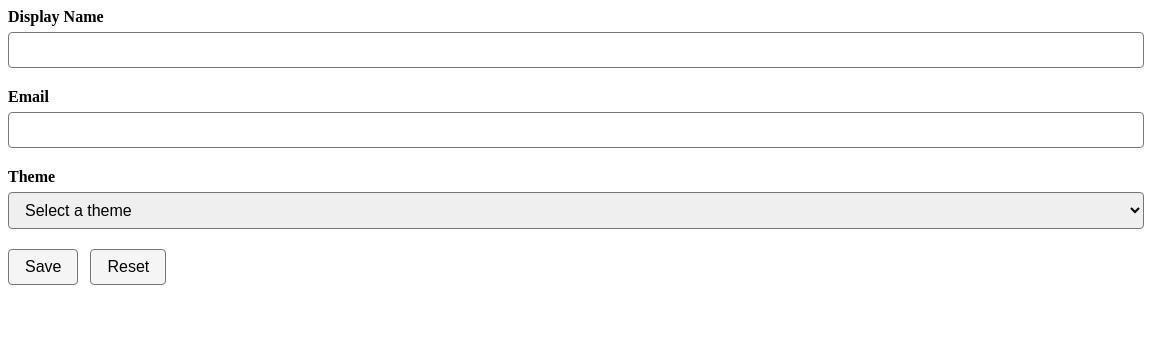
Scenario: SettingsForm › shows a success message after valid submission
Type "Jane Doe" into the field labelled "Display Name" at (576, 50), box [8,32,1144,68]
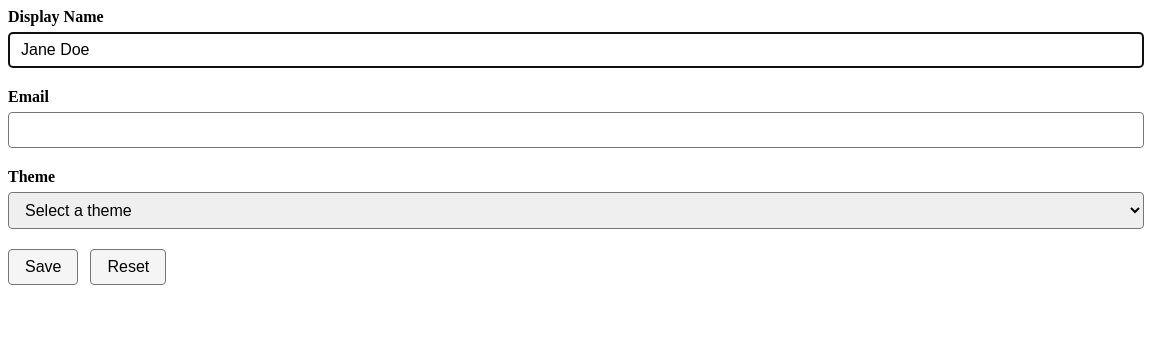
Type "jane@example.com" into the field labelled "Email" at (576, 130), box [8,112,1144,148]
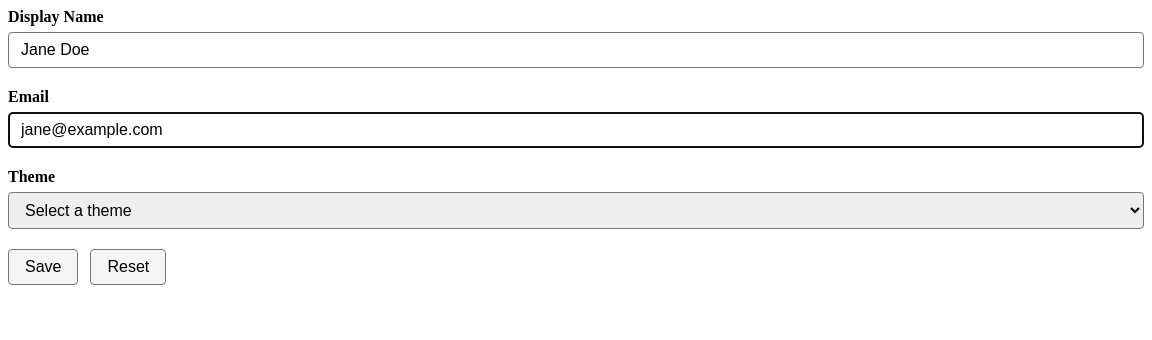
Select "Dark" in the dropdown labelled "Theme" at (576, 210), box [8,192,1144,229]
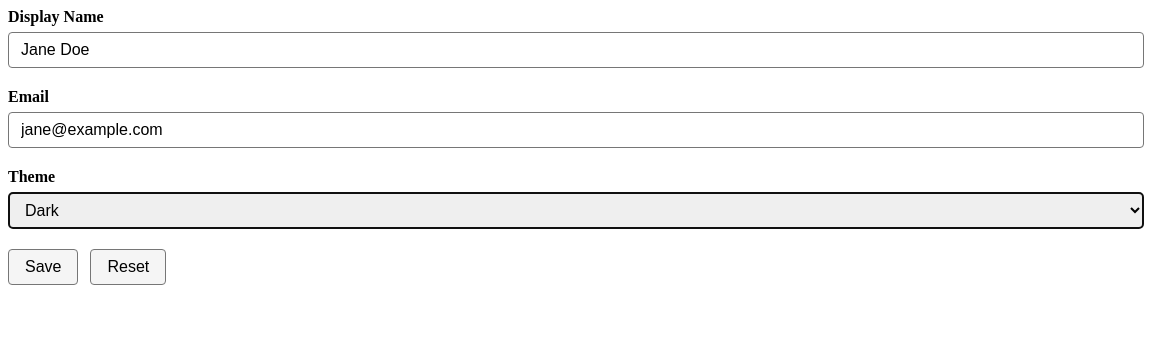
Click the button "Save" at (43, 267), box [8,249,78,285]
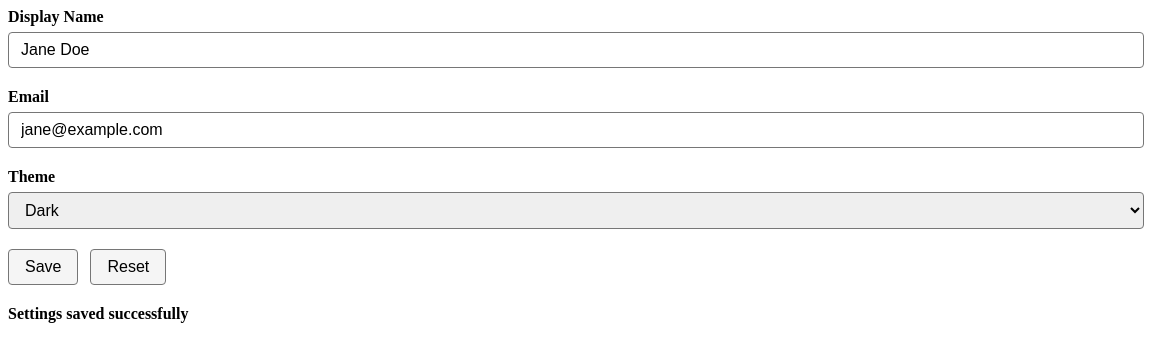
Expected: the message reads "Settings saved successfully", [8,305,188,322]
